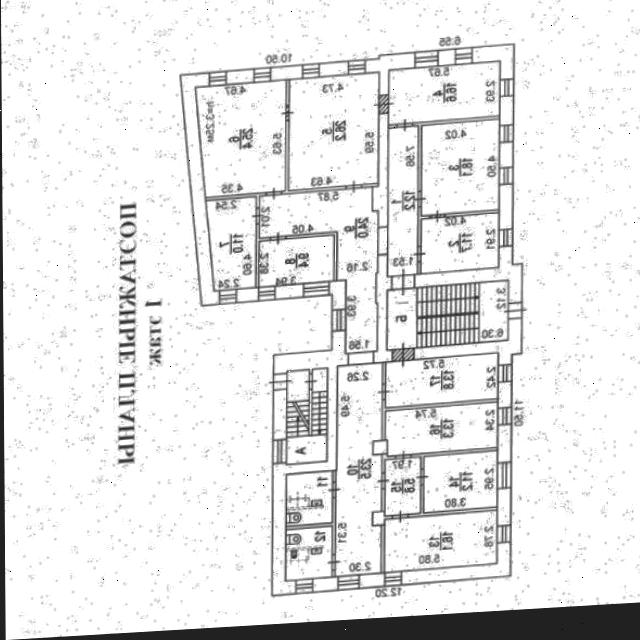room: (259, 186, 378, 352), (195, 79, 293, 195), (288, 71, 379, 189), (337, 361, 383, 575), (383, 280, 513, 348), (421, 118, 498, 215), (382, 510, 503, 571), (384, 61, 502, 122), (383, 401, 501, 455), (383, 353, 502, 406), (206, 195, 263, 289), (417, 212, 503, 273), (420, 450, 502, 511), (388, 125, 418, 275), (257, 234, 337, 285), (287, 367, 328, 463), (287, 469, 333, 524), (287, 525, 333, 579), (385, 457, 421, 515)
